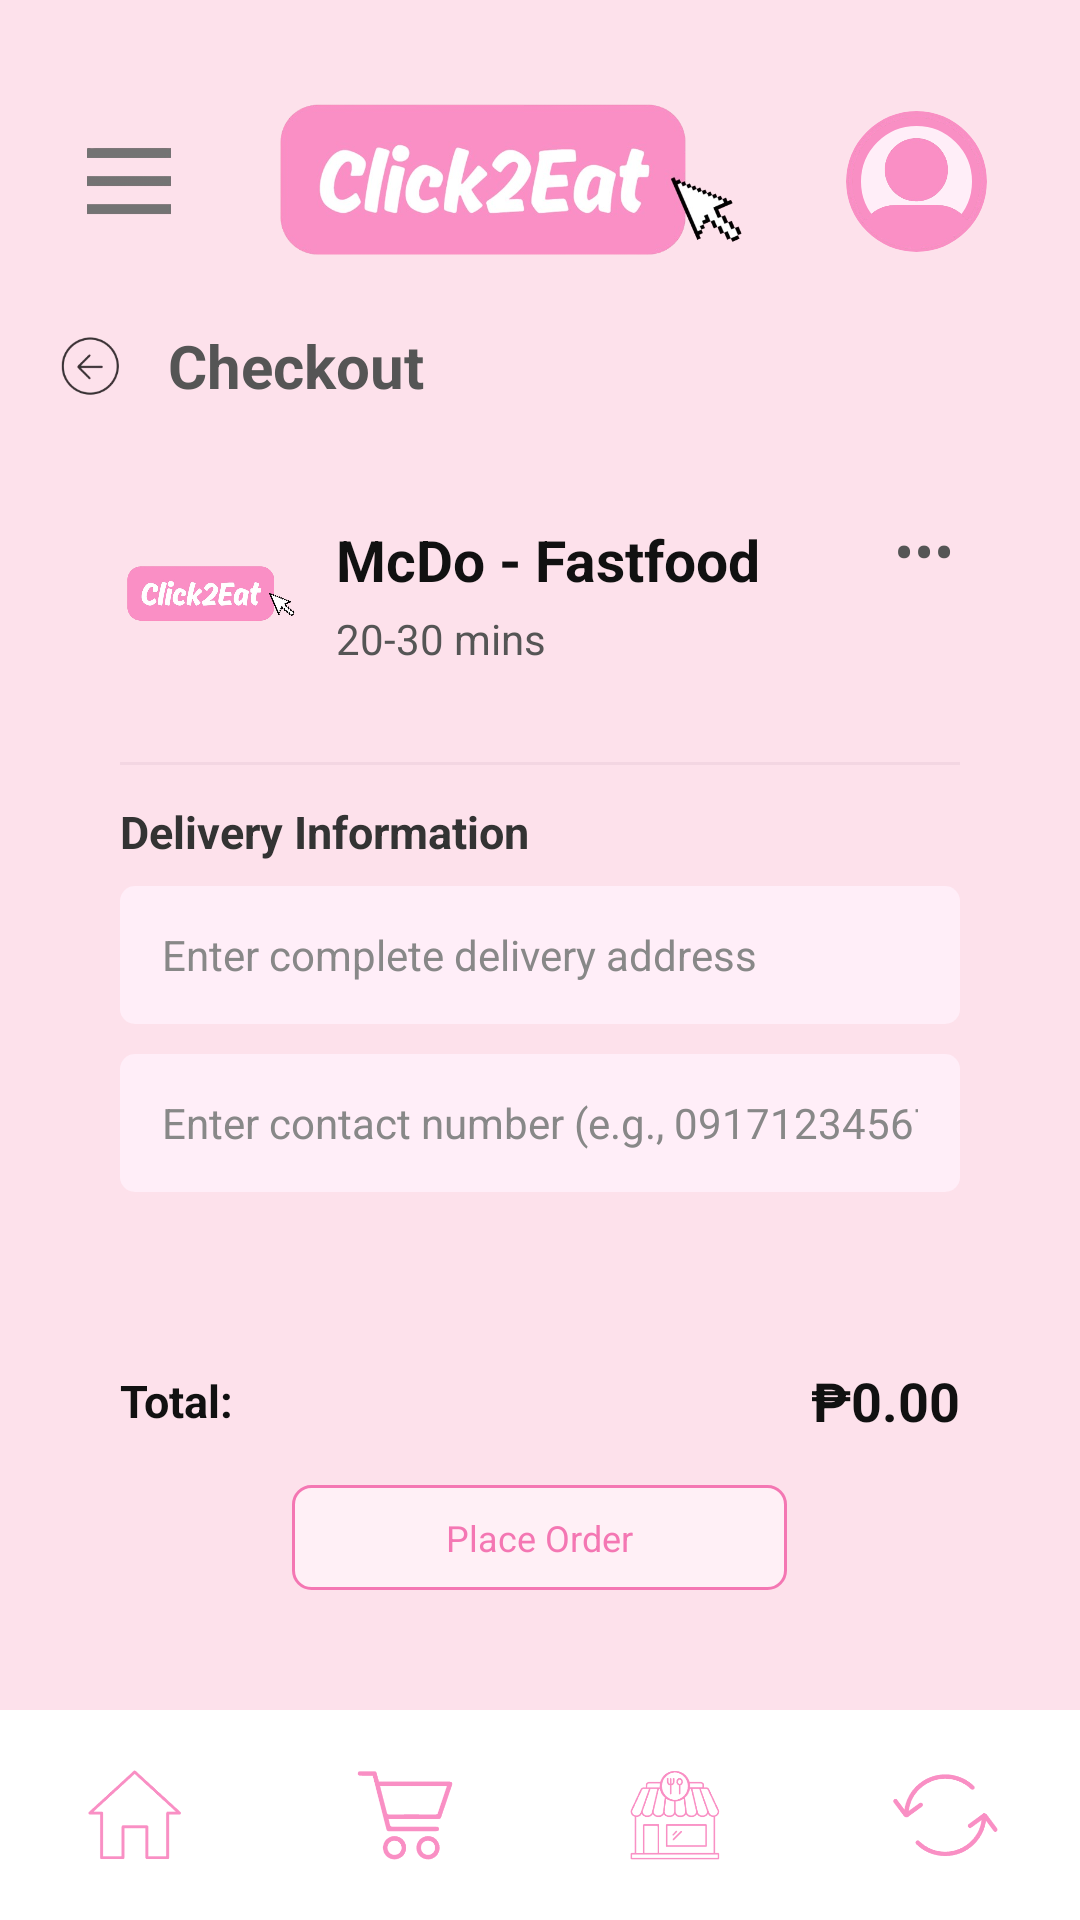

Named icons in this screenshot (1080 x 1920) and their bounding boxes, [x1,y1,x2,y2]:
Back to cart: [61,337,119,395]
Cart: [358,1771,452,1860]
Home: [88,1770,181,1859]
Menu: [87,148,171,214]
Open profile: [846,111,987,252]
Restaurants: [630,1771,719,1860]
